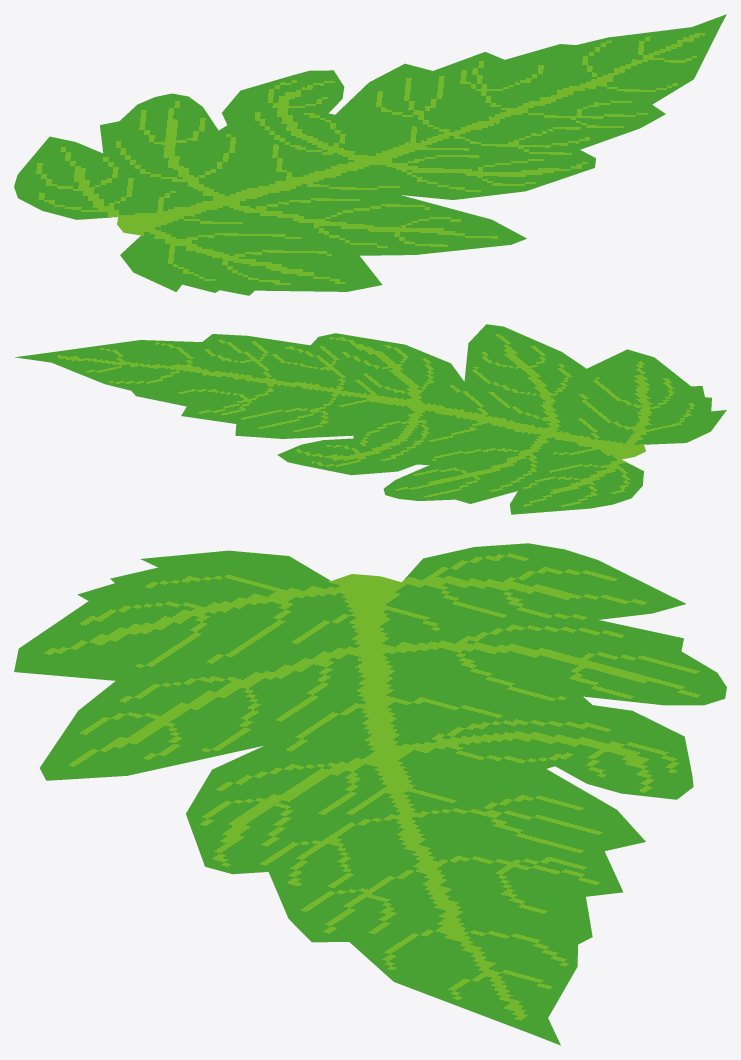
File: TomatoLeaf.glb
3 renders of one model, top to bottom at view 1: azimuth 30°, elevation 25°; view 2: azimuth 150°, elevation 25°; view 3: azimuth 270°, elevation 25°, orthographic. The views are drawn at different scales.
Parts seen in each view (by area): view 1: Leaf; view 2: Leaf; view 3: Leaf.
Boxes of the visible parts, left/top/right/bottom form: Leaf: left=14, top=14, right=726, bottom=295; Leaf: left=15, top=324, right=726, bottom=514; Leaf: left=14, top=543, right=726, bottom=1045.
Bounding box in the file's own units: 3.36 × 3.84e-07 × 2.01.
Materials: 1 (1 with a texture image).
